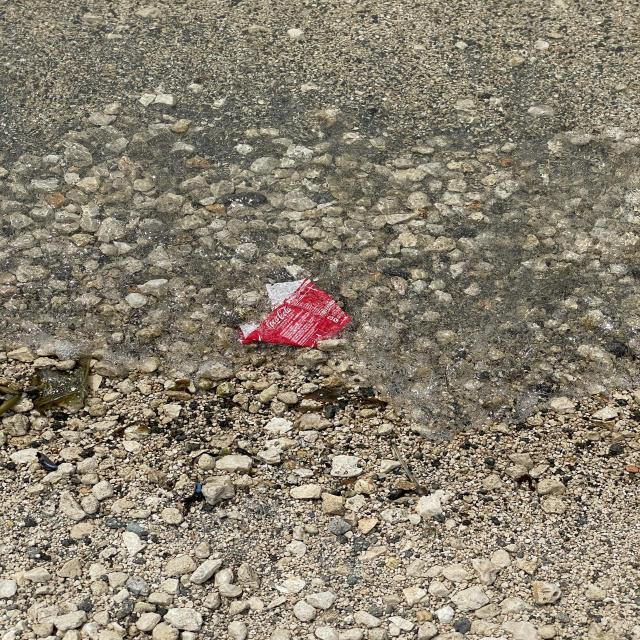plastic_waste: (237, 275, 351, 347)
